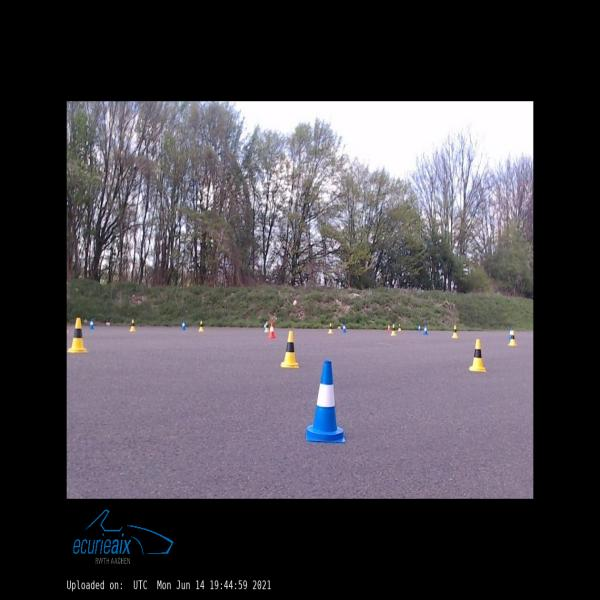blue_cone: (306, 361, 345, 442), (89, 317, 94, 329), (423, 324, 428, 335), (342, 323, 347, 332), (508, 328, 512, 338), (182, 321, 186, 330), (418, 323, 422, 331), (263, 321, 266, 328)
orange_cone: (268, 322, 276, 338), (387, 324, 391, 330)
yellow_cone: (280, 330, 298, 368), (67, 318, 87, 352), (469, 339, 486, 372), (508, 330, 516, 346), (452, 325, 458, 338), (130, 320, 136, 331), (199, 320, 204, 331), (391, 324, 396, 335), (264, 322, 269, 332), (328, 323, 333, 333), (398, 324, 402, 330)
